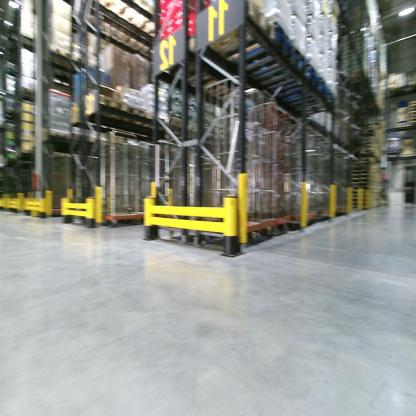pallet: (203, 4, 278, 63), (237, 23, 296, 75), (109, 1, 162, 52), (251, 42, 311, 85), (78, 1, 134, 40), (91, 93, 125, 120), (112, 103, 150, 125), (144, 109, 169, 135), (47, 42, 69, 65), (42, 129, 71, 136)
